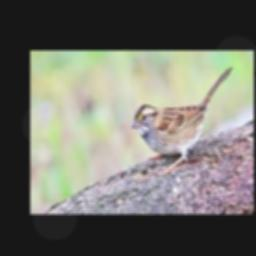Sparrow: (132, 67, 233, 174)
